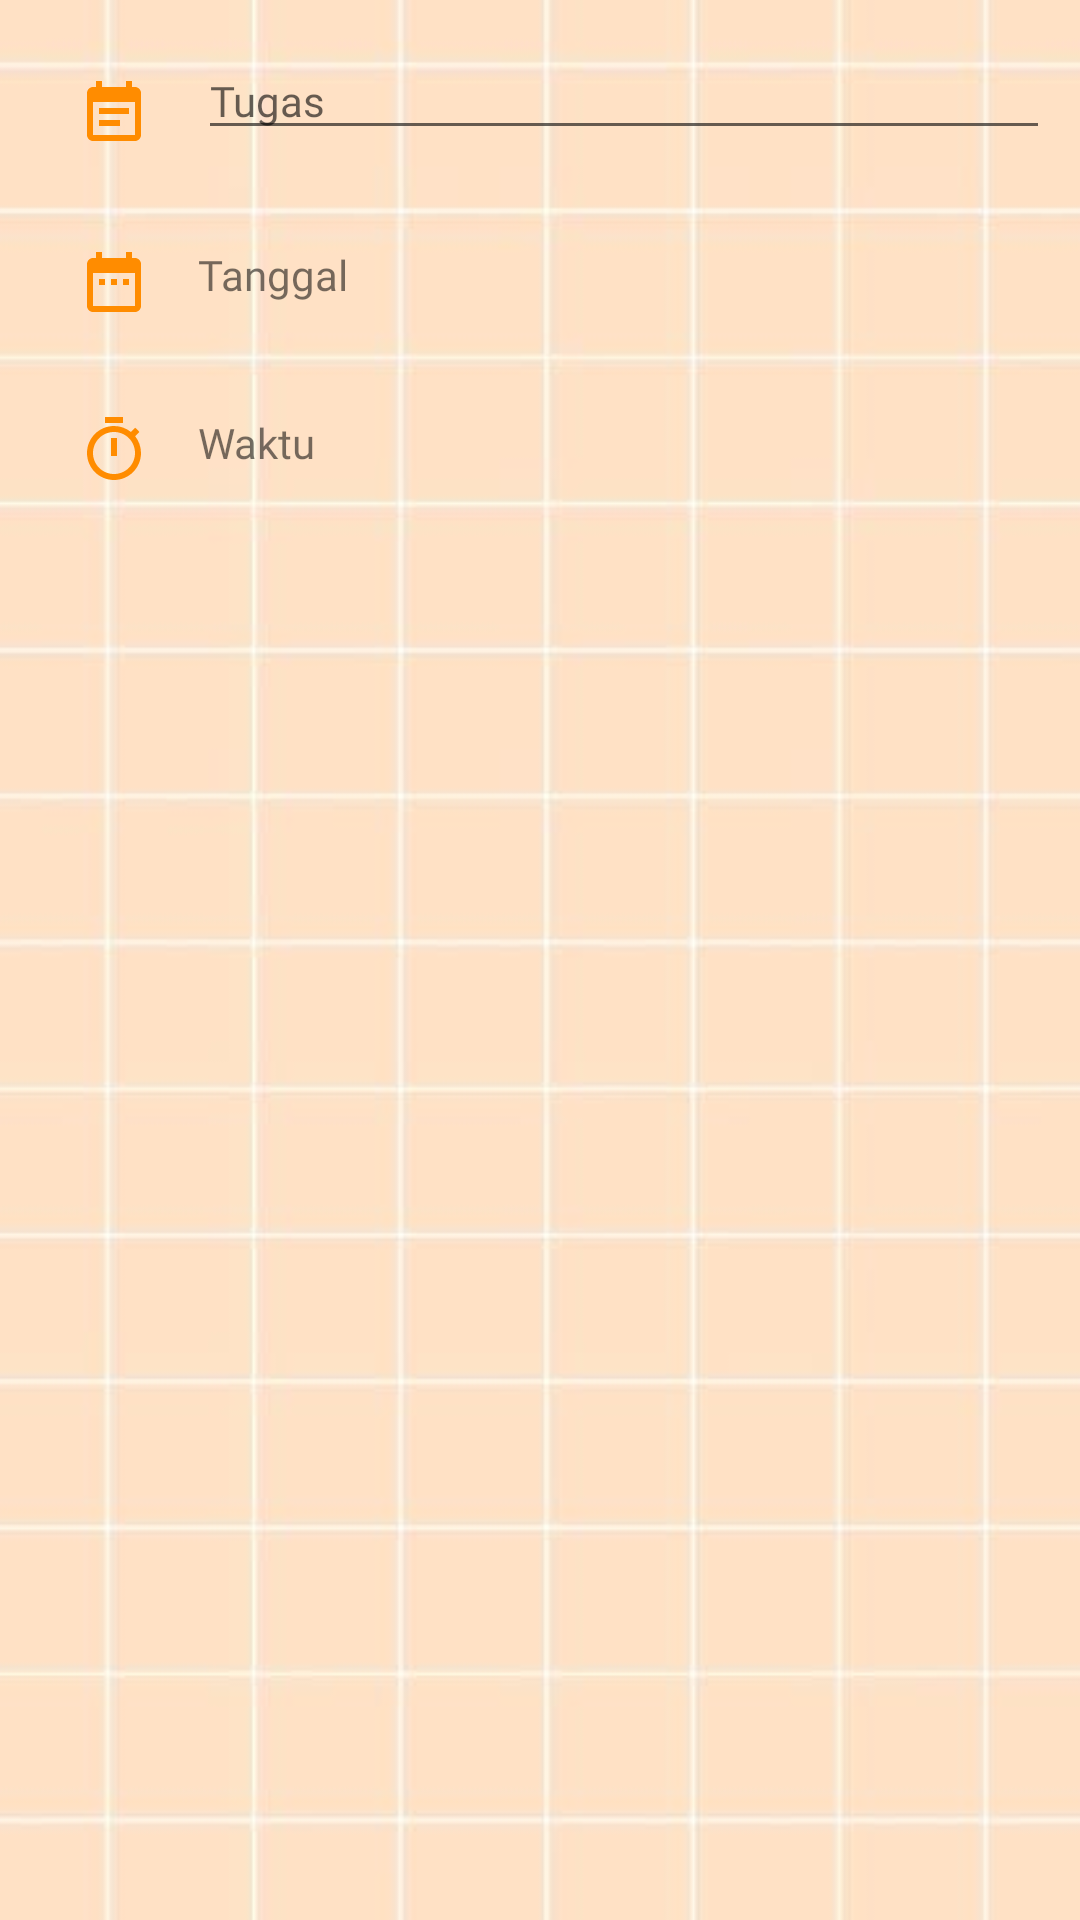

Where to tap for icons on this 1080w x 1920h app screen, as (x=x, y=y):
date: (x=114, y=283)
note: (x=114, y=114)
time: (x=114, y=450)
